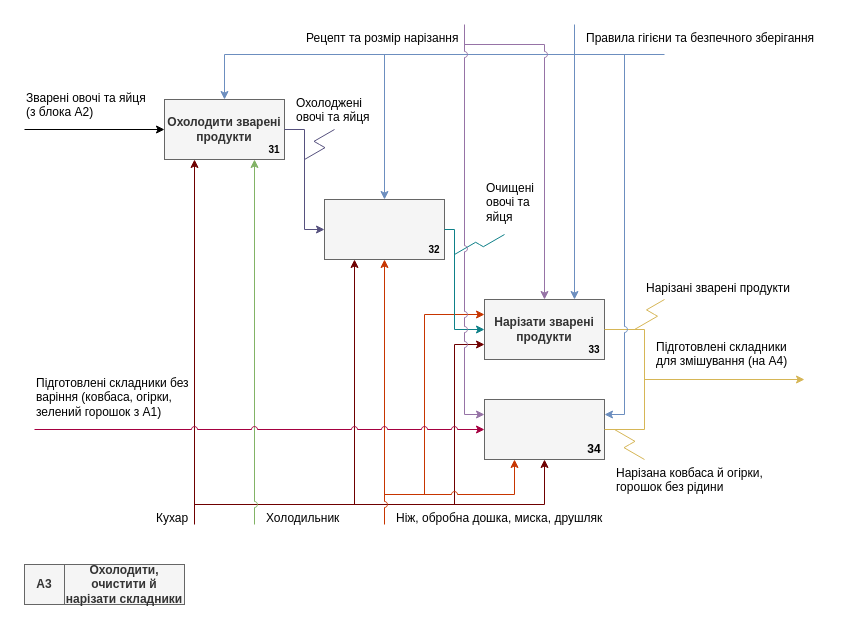
Some shapes in this 852 by 623 pixel diagram are drawn without their labels. The shapes that lost their labels are listed below. From the top down, each one's box as (x1, y1, x2, y2) in pixels, then its label:
(324, 198, 444, 260): Очистити зварені продукти
(484, 398, 604, 460): Підготувати інші складники
